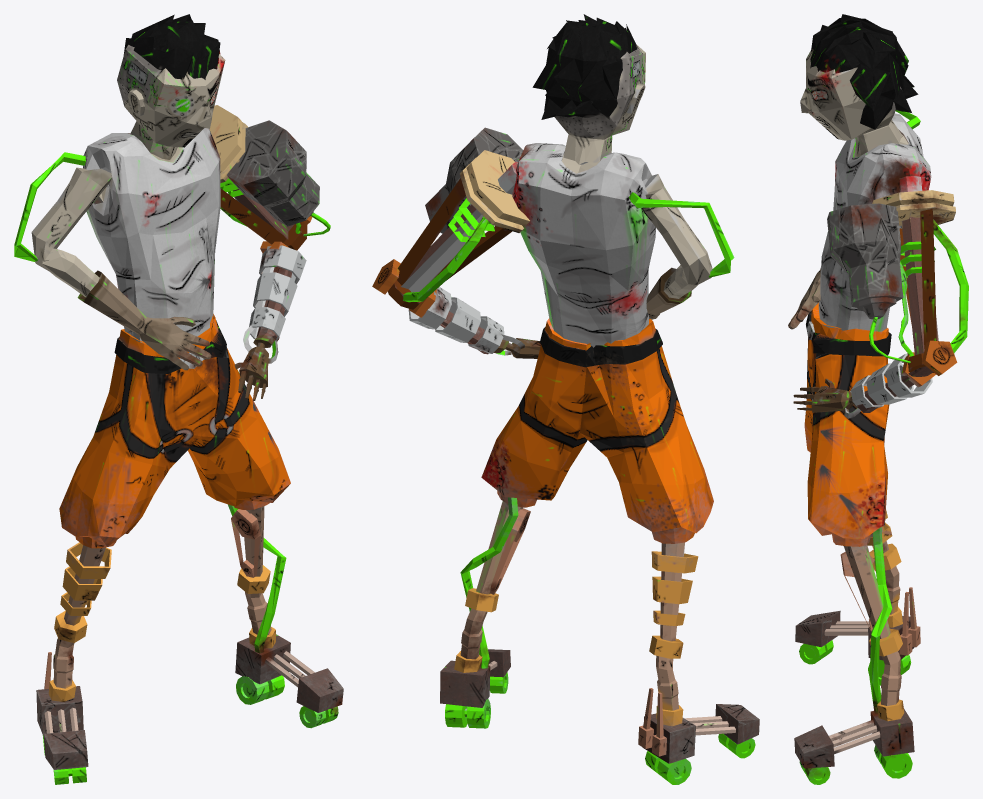
File: CyborgFINALAnimation_000014.obj
3 views of the same model, side by side, from view 1: azimuth 30°, elevation 25°; view 2: azimuth 150°, elevation 25°; view 3: azimuth 270°, elevation 25° (orthographic). The views are drawn at different scales.
Parts seen in each view (by area): view 1: CyborgMesh_Cube.002; view 2: CyborgMesh_Cube.002; view 3: CyborgMesh_Cube.002.
Boxes of the visible parts, left/top/right/bottom form: CyborgMesh_Cube.002: left=14, top=14, right=343, bottom=784; CyborgMesh_Cube.002: left=372, top=14, right=759, bottom=784; CyborgMesh_Cube.002: left=788, top=14, right=968, bottom=784.
Size of the model in its own units: 4.53 by 9.61 by 2.24.
